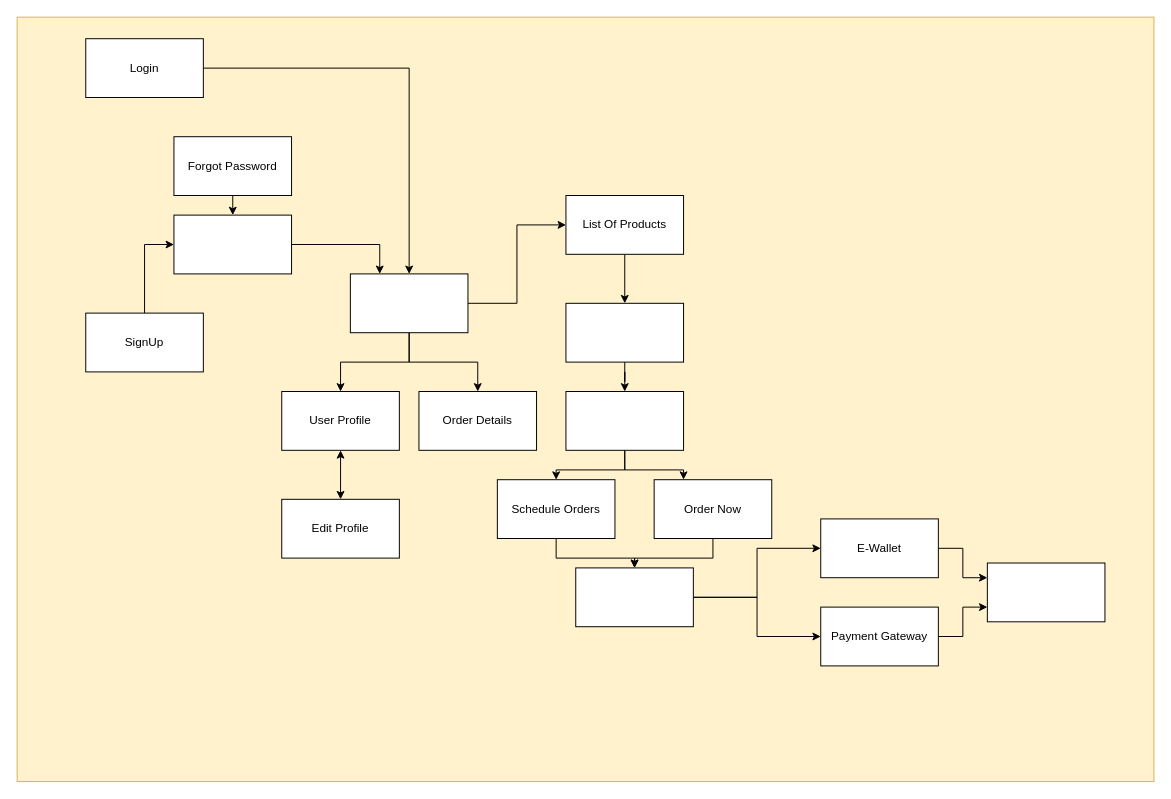
The diagram is 1171 pixels wide and 799 high, and some of its shapes have lost their labels. The shapes that lost their labels are listed below. From the top down, each one's centre as x and y in pixels, then its label:
At (x=232, y=244): "Verify OTP".
At (x=408, y=303): "DashBoard".
At (x=624, y=332): "Add To Cart".
At (x=624, y=420): "Add Address".
At (x=634, y=597): "Proceed To Payment".
At (x=1045, y=592): "Order Confirmed".
